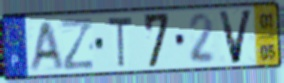2: (187, 12, 217, 66)
7: (142, 12, 172, 71)
A: (27, 19, 66, 74)
T: (106, 14, 135, 70)
V: (216, 8, 256, 66)
Z: (60, 16, 96, 73)
